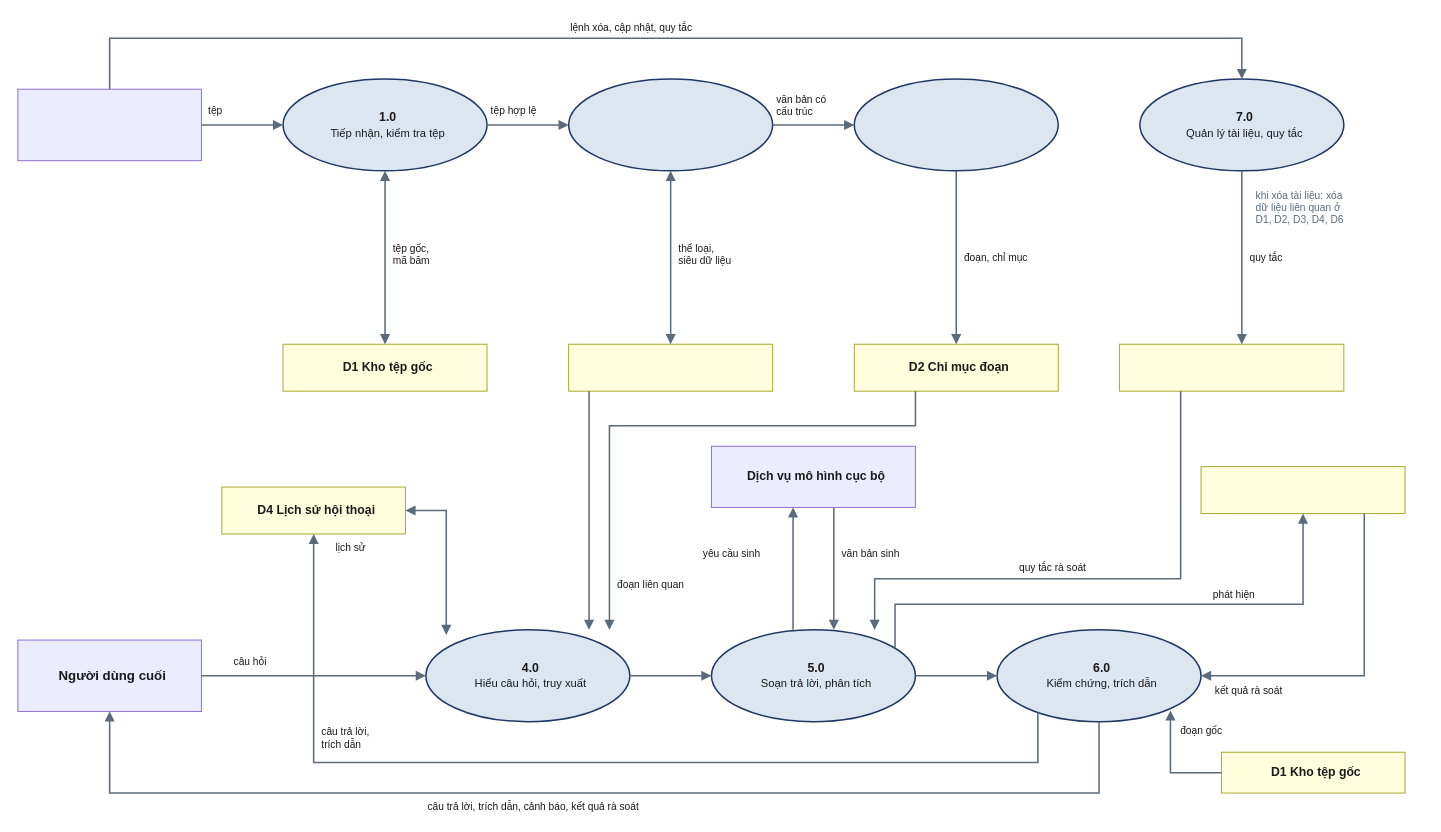
The diagram is 1441 pixels wide and 832 high, and some of its shapes have lost their labels. Each missing label, with the box of its shape:
2.0 Phân tích cấu trúc: (567, 78, 773, 171)
3.0 Chia đoạn, lập chỉ mục: (853, 78, 1059, 171)
D3 Danh mục tài liệu: (568, 343, 773, 391)
D5 Bộ quy tắc rà soát: (1118, 343, 1344, 391)
D6 Kết quả rà soát: (1200, 466, 1405, 514)
Quản trị tài liệu: (17, 88, 201, 161)
